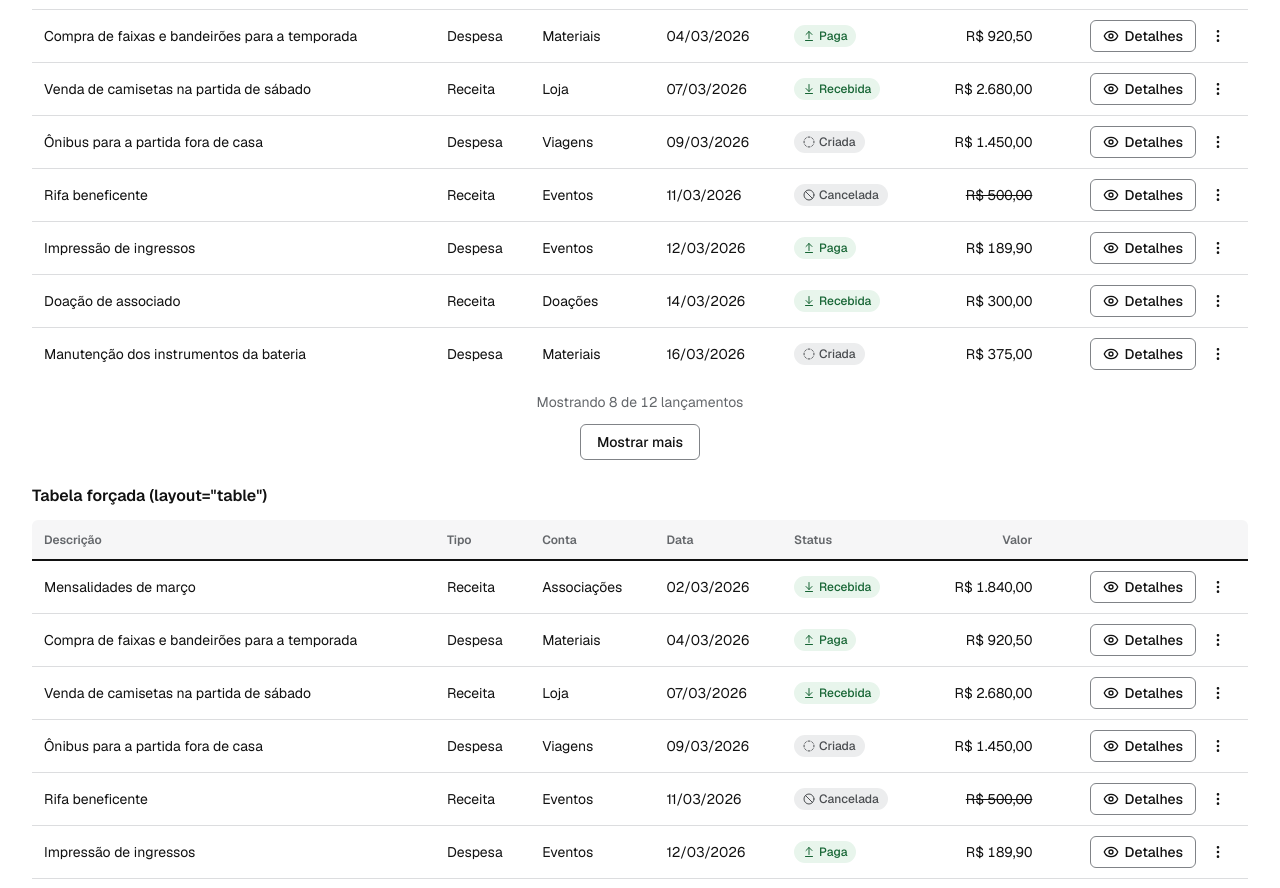
Test: tabela e lista › Mostrar mais acrescenta as linhas restantes
(page scrolled)
Expected: the text "Mostrando 8 de 12 lançamentos" is shown, [537,392,743,412]
Click the button "Mostrar mais": (640, 442) [580,424,700,460]
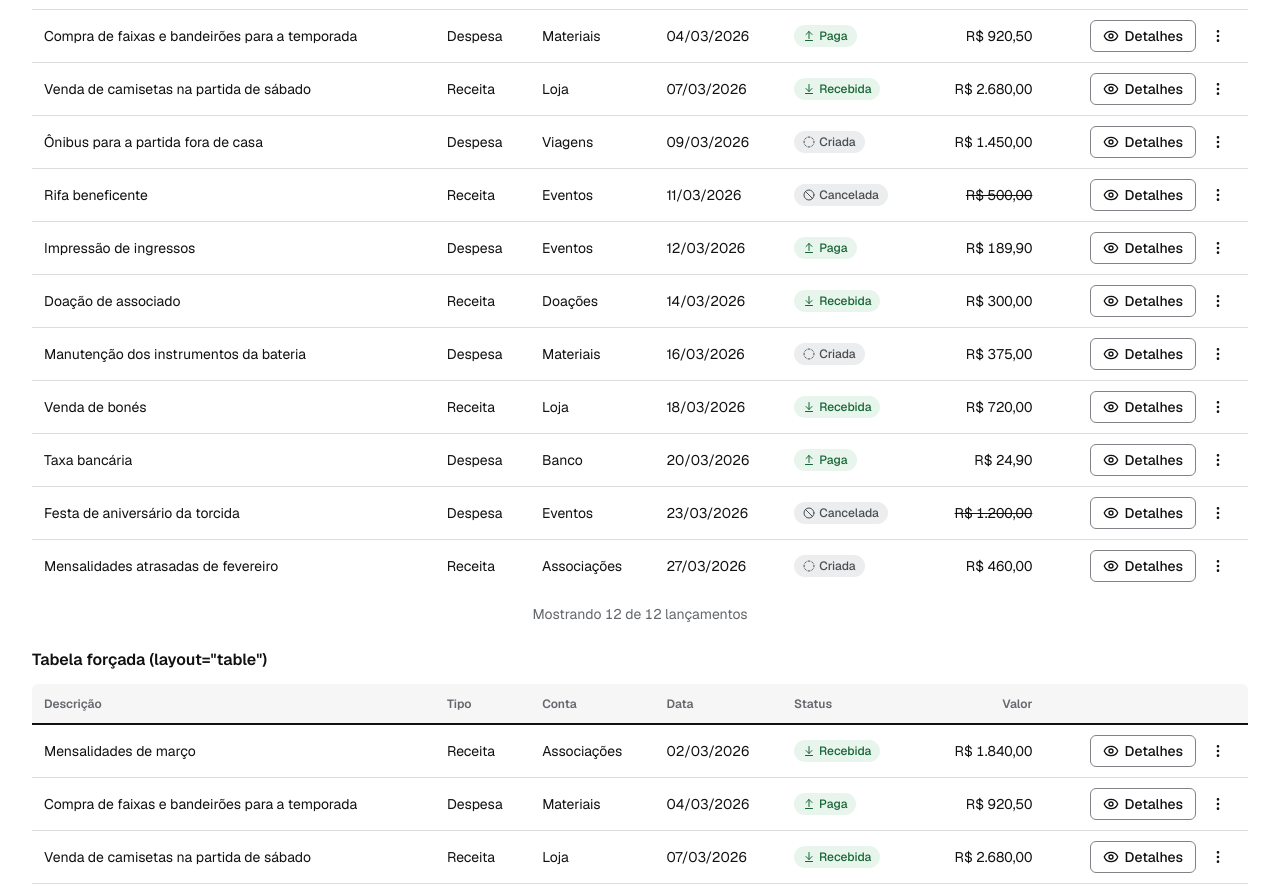
Expected: the button "Mostrar mais" is gone
